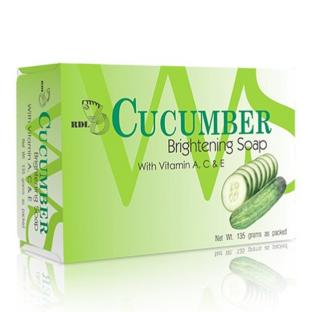Cucumber: (230, 177, 286, 229), (230, 257, 286, 291), (222, 173, 249, 211), (240, 165, 258, 196), (245, 161, 262, 193), (236, 168, 253, 197), (252, 160, 266, 189), (256, 157, 271, 184), (259, 155, 275, 180), (266, 154, 278, 177)
